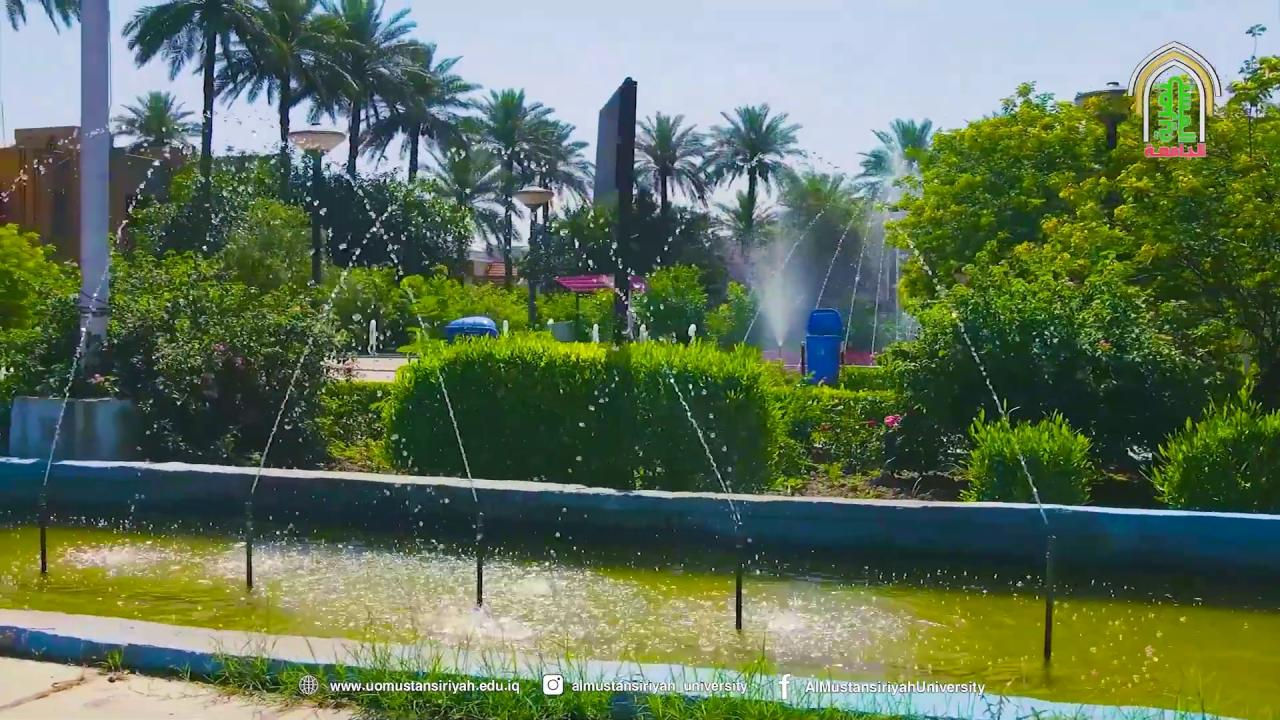fountain: (1, 457, 1278, 717), (732, 127, 931, 375)
tree: (874, 41, 1279, 498), (1, 0, 113, 377), (120, 0, 262, 196), (457, 86, 591, 293), (212, 0, 347, 204), (302, 0, 434, 184), (854, 116, 935, 351), (359, 40, 482, 186), (702, 102, 806, 260), (951, 404, 1098, 505), (516, 119, 594, 294), (288, 123, 346, 285), (431, 148, 496, 285), (632, 109, 711, 217), (512, 183, 554, 329), (111, 89, 197, 159), (1, 0, 81, 34), (889, 116, 933, 169)
